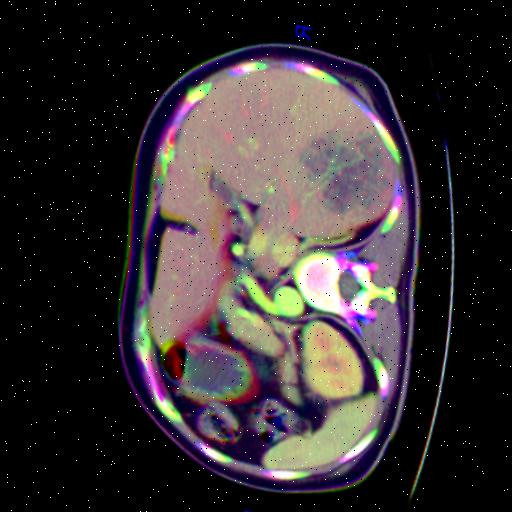Abscess: (296, 126, 391, 214)
